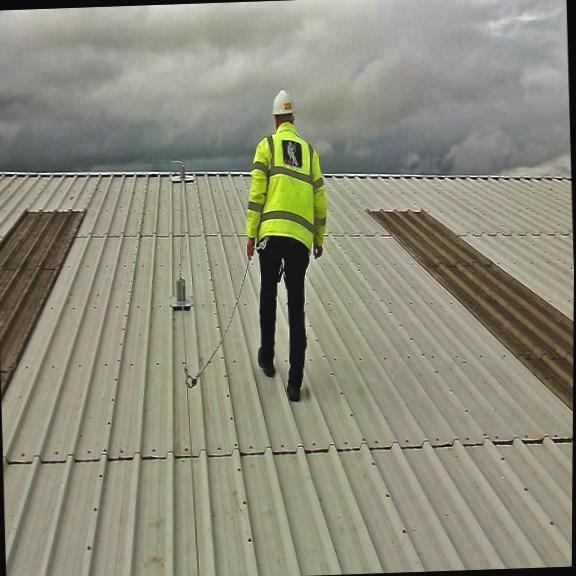safety_vest: (246, 121, 321, 268)
